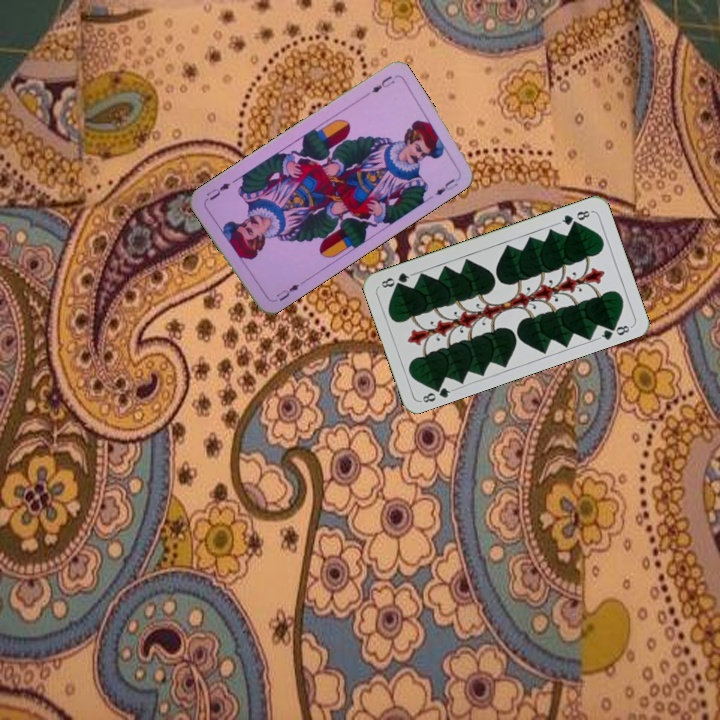EU: (360, 72, 397, 100), (269, 278, 306, 305)
G8: (417, 380, 457, 406), (555, 206, 594, 228)
